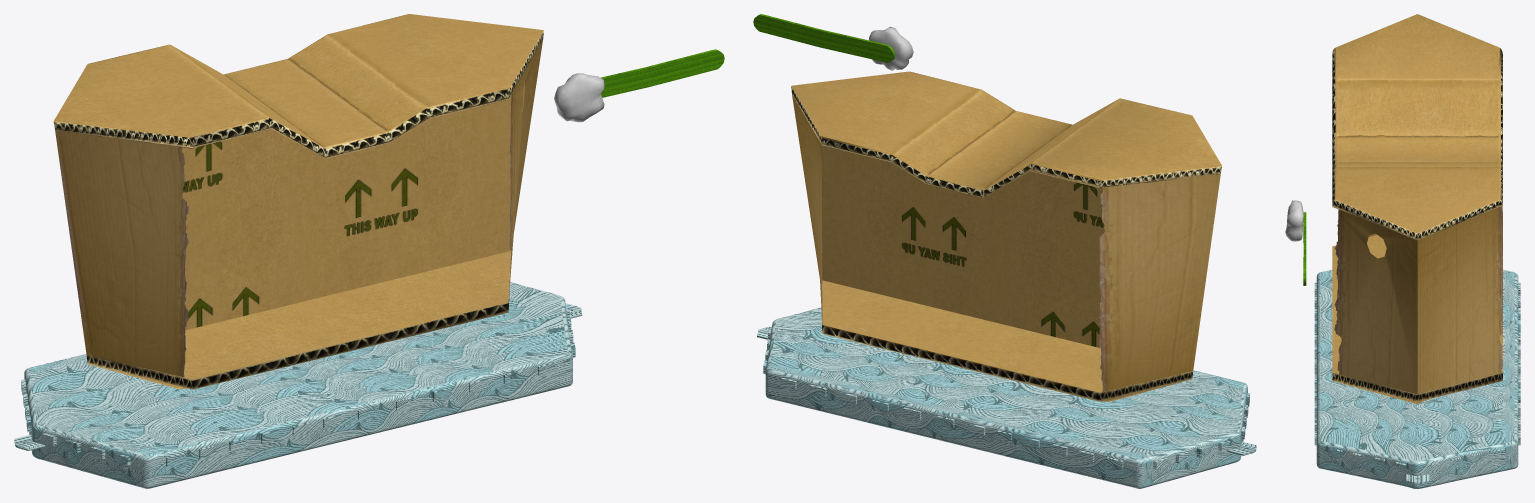
The model's file is HUD Cloud Icon.fbx.
The picture shows the model from 3 angles, left to right: view 1: azimuth 30°, elevation 25°; view 2: azimuth 150°, elevation 25°; view 3: azimuth 270°, elevation 25°; orthographic projection. The views are drawn at different scales.
Visible parts, largest first — view 1: Boat, Train_Carriage, polySurface78, pSphere1; view 2: Boat, Train_Carriage, polySurface78, pSphere1; view 3: Boat, Train_Carriage, pSphere1, polySurface78.
Boxes of the visible parts, x1,y1,x2,y2 form: Boat: [53, 14, 543, 389]; Train_Carriage: [14, 282, 582, 488]; polySurface78: [601, 49, 724, 97]; pSphere1: [554, 73, 604, 122]; Boat: [791, 71, 1221, 401]; Train_Carriage: [757, 307, 1256, 488]; polySurface78: [753, 14, 895, 62]; pSphere1: [868, 26, 913, 70]; Boat: [1332, 14, 1502, 403]; Train_Carriage: [1314, 269, 1520, 488]; pSphere1: [1285, 200, 1303, 241]; polySurface78: [1303, 212, 1306, 285].
Size of the model in its own units: 9.51 by 4.73 by 3.71.
